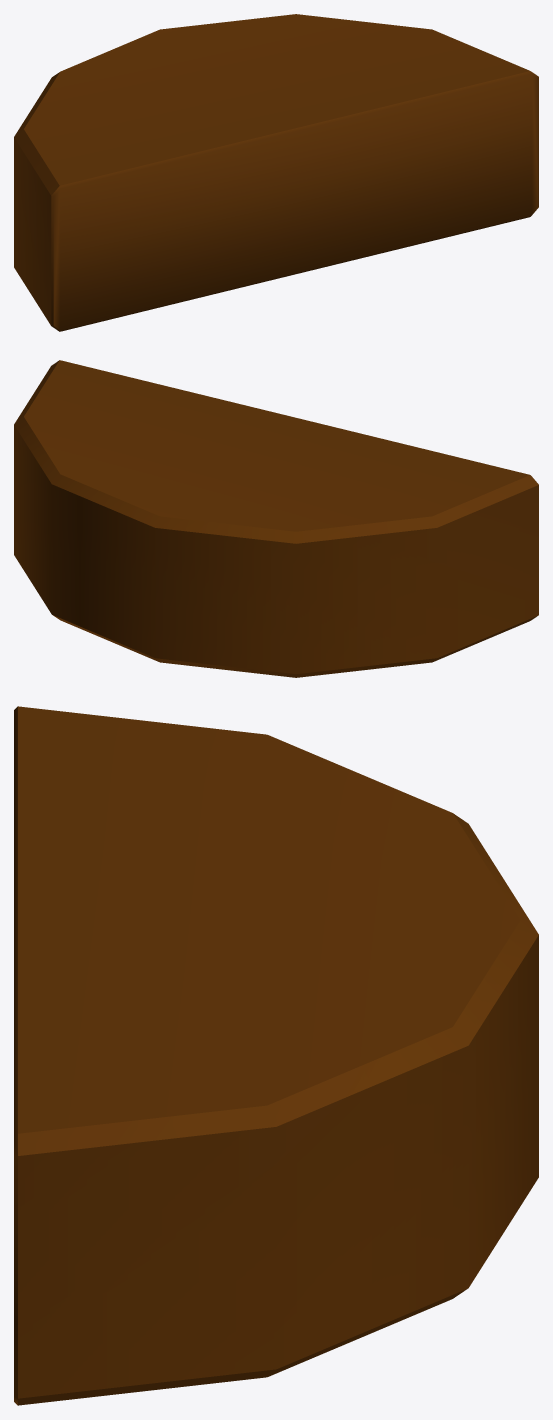
File: Cake_1 Half_1.fbx
3 views of the same model, one above another, from view 1: azimuth 30°, elevation 25°; view 2: azimuth 150°, elevation 25°; view 3: azimuth 270°, elevation 25° (orthographic). The views are drawn at different scales.
Parts seen in each view (by area): view 1: Cake_1 Half_1; view 2: Cake_1 Half_1; view 3: Cake_1 Half_1.
Boxes of the visible parts, x1,y1,x2,y2 form: Cake_1 Half_1: (14, 14, 538, 331); Cake_1 Half_1: (14, 360, 538, 677); Cake_1 Half_1: (14, 706, 538, 1405).
Size of the model in its own units: 0.2601 by 0.0744 by 0.1303.
